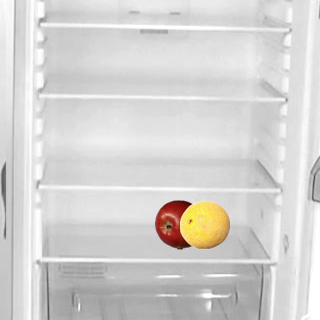Apple Braeburn: (154, 199, 204, 249)
Cantaloupe 1: (179, 199, 229, 249)
